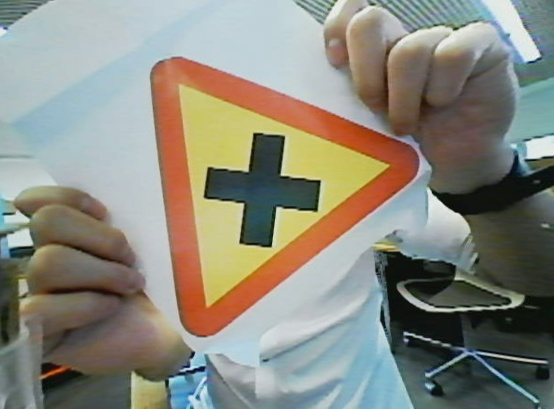junction: (139, 46, 416, 362)
